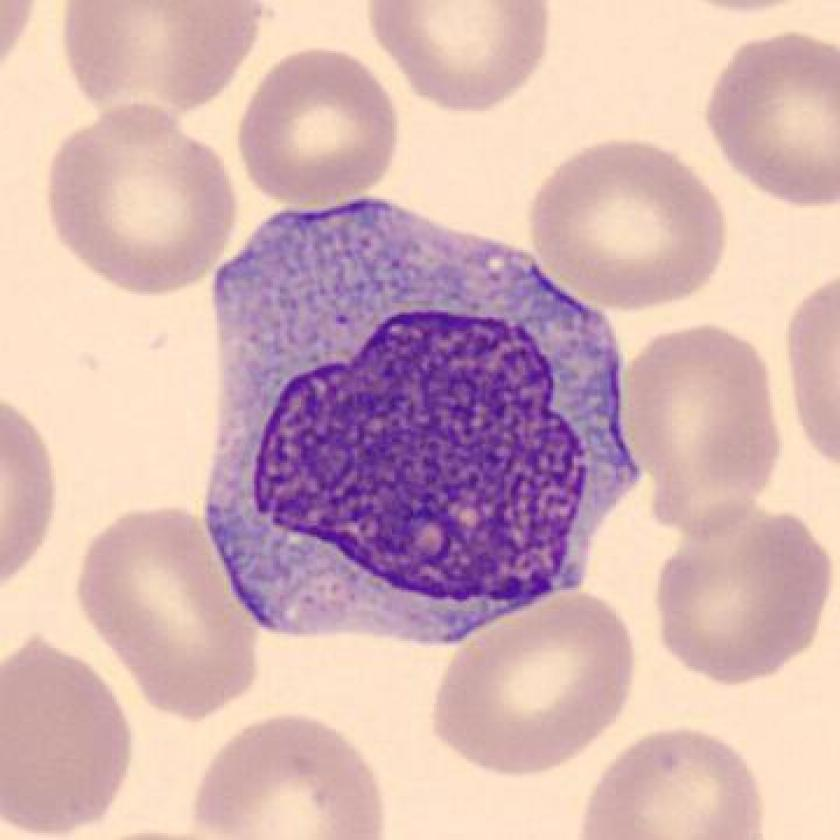monocyte: (183, 184, 652, 672), (696, 542, 699, 545)
